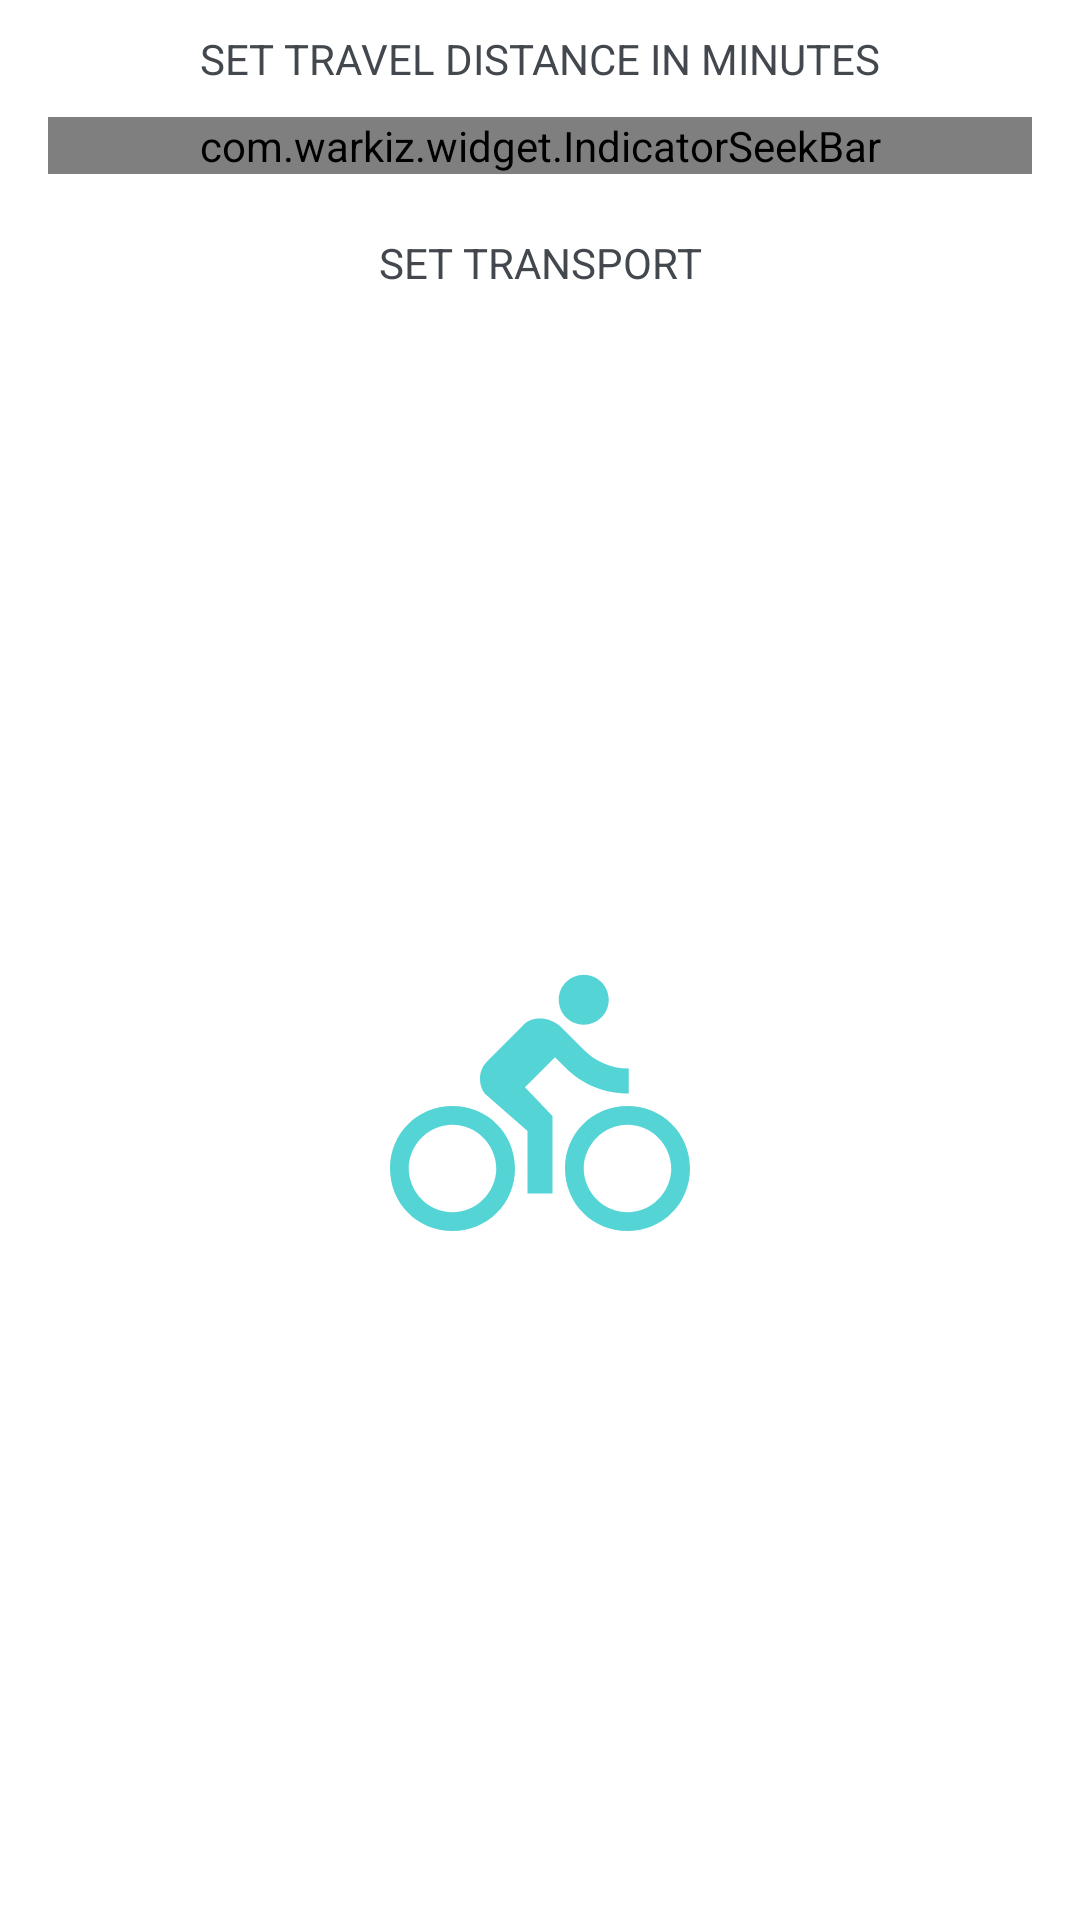

Named icons in this screenshot (1080x1920) and their bounding boxes, (x1, y1, x2, y2):
set bike as transport: (390, 974, 690, 1231)
